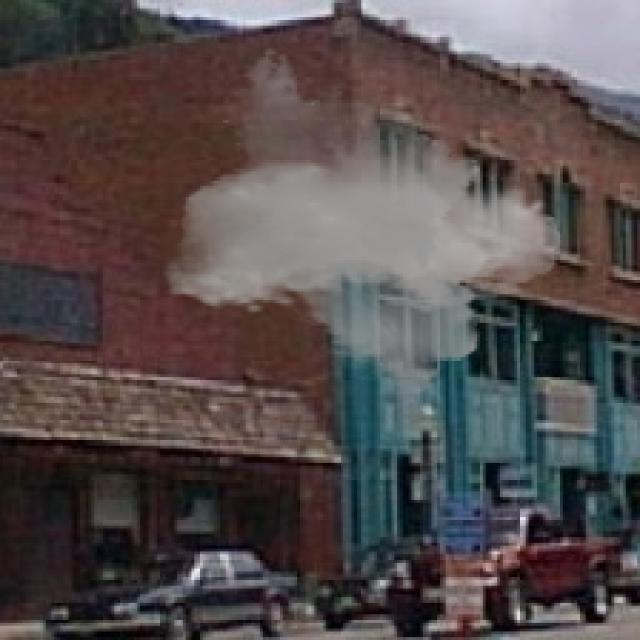Smoke: (163, 46, 563, 406)
